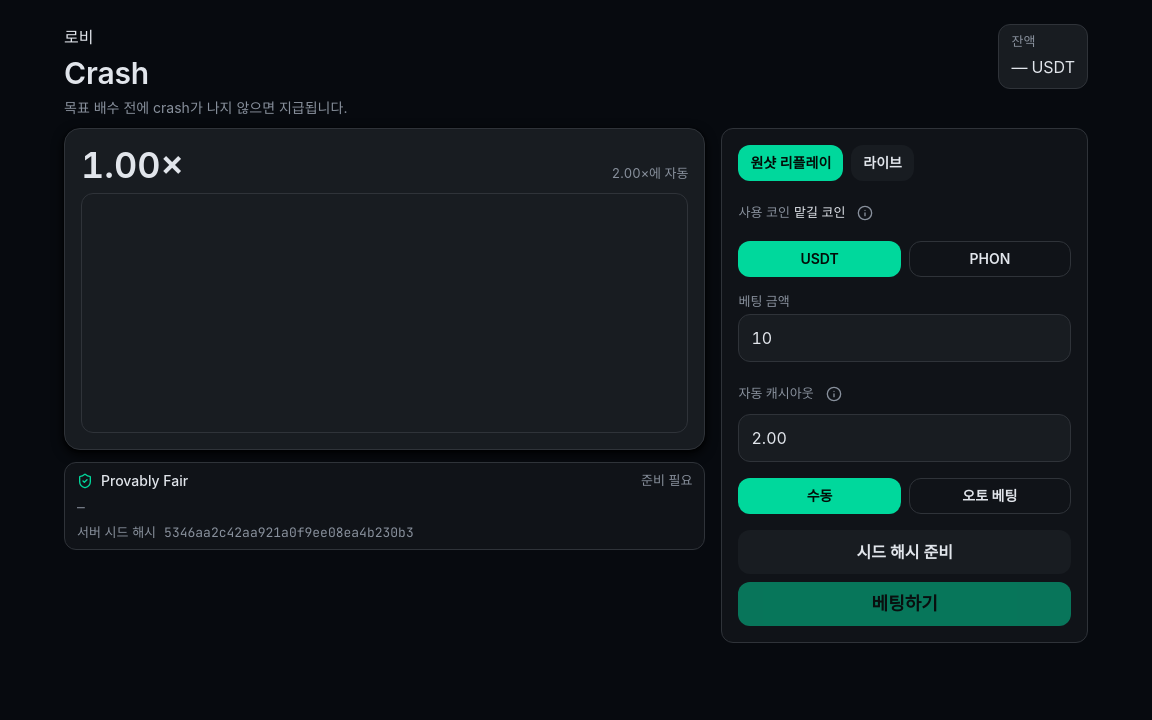
Test: CasinoGameShell (p10-casino-replay-and-infra) › renders shell chrome with USDT/PHON toggle, AutoBet tabs, and PF strip
The image size is (1152, 720).
expect the element with test id "casino-stake-currency" is shown: met, box top-left (738, 197), bottom-right (1071, 277)
expect the button with test id "casino-stake-currency-usdt" is shown: met, box top-left (738, 241), bottom-right (901, 277)
Click the tab with test id "casino-bet-mode-auto" at (990, 496), box top-left (909, 478), bottom-right (1071, 514)
(page scrolled)
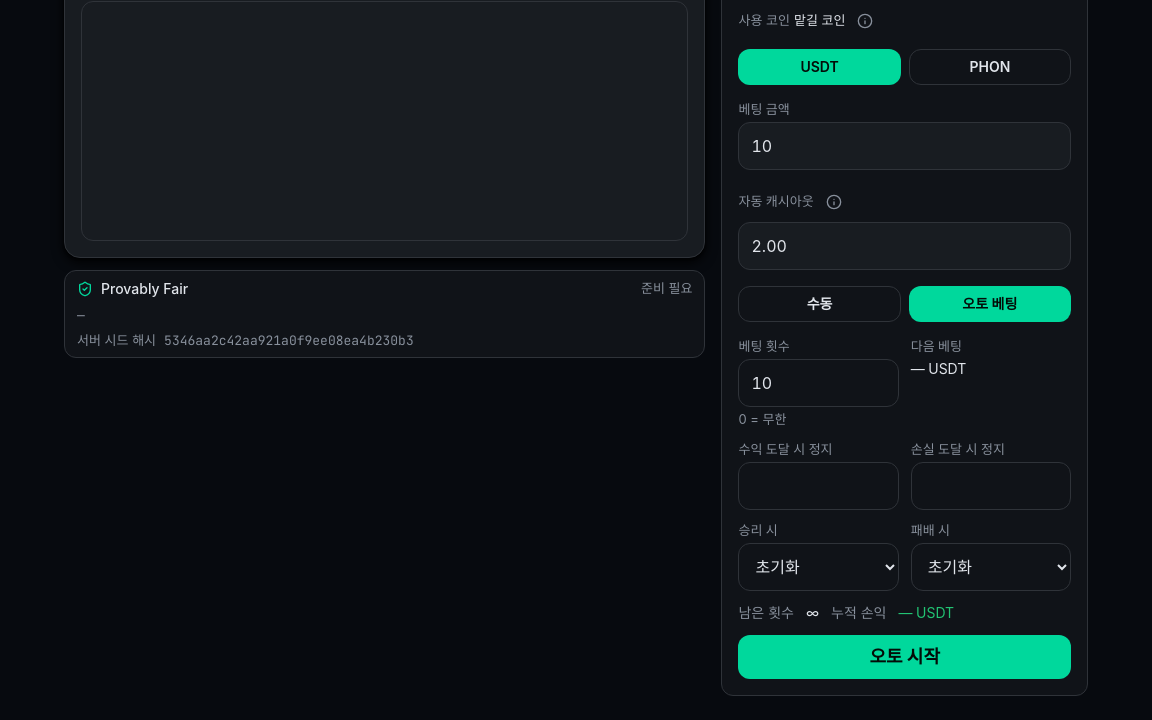
expect the element with test id "casino-auto-bet-panel" is shown: met, box top-left (738, 338), bottom-right (1071, 679)
expect the button with test id "casino-auto-start" is shown: met, box top-left (738, 635), bottom-right (1071, 679)
